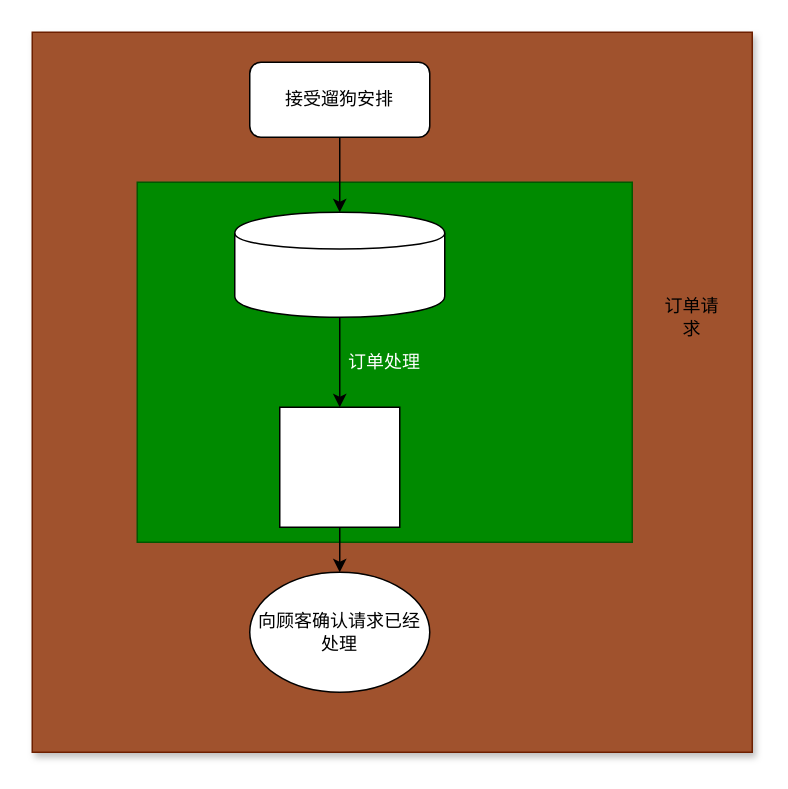
The diagram is 788 pixels wide and 789 high, and some of its shapes have lost their labels. The shapes that lost their labels are listed below. From the top down, each one's centre as x and y in pixels, then its label:
At [339,264]: "请求存储在数据库".
At [339,466]: "通知遛狗师有一位新客户".
